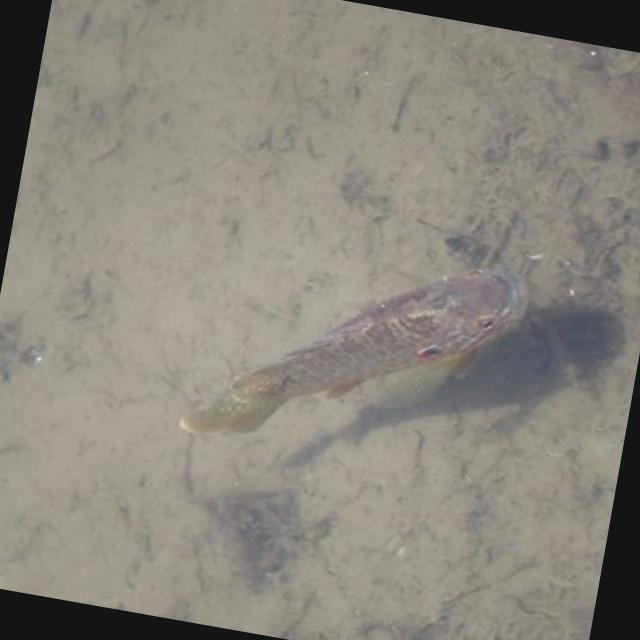Gunes Levregi: (167, 212, 538, 486)
